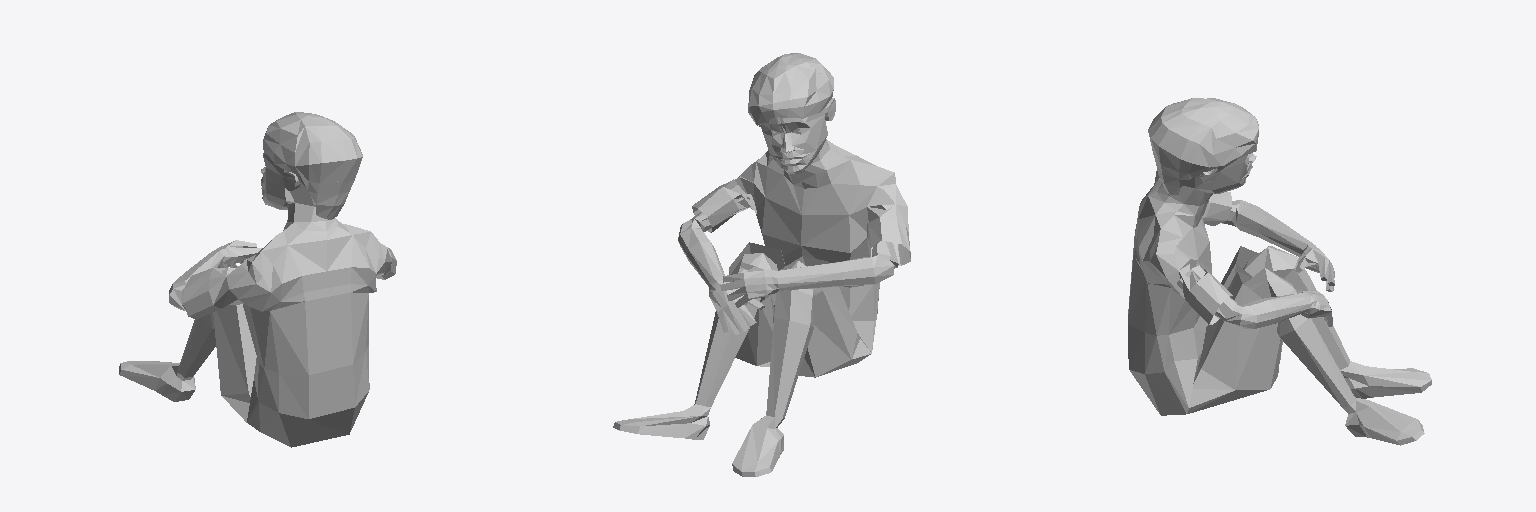
The model's file is boy.obj.
The picture shows the model from 3 angles: view 1: azimuth 30°, elevation 25°; view 2: azimuth 150°, elevation 25°; view 3: azimuth 270°, elevation 25°; orthographic projection.
Size of the model in its own units: 1.56 by 2.23 by 1.91.